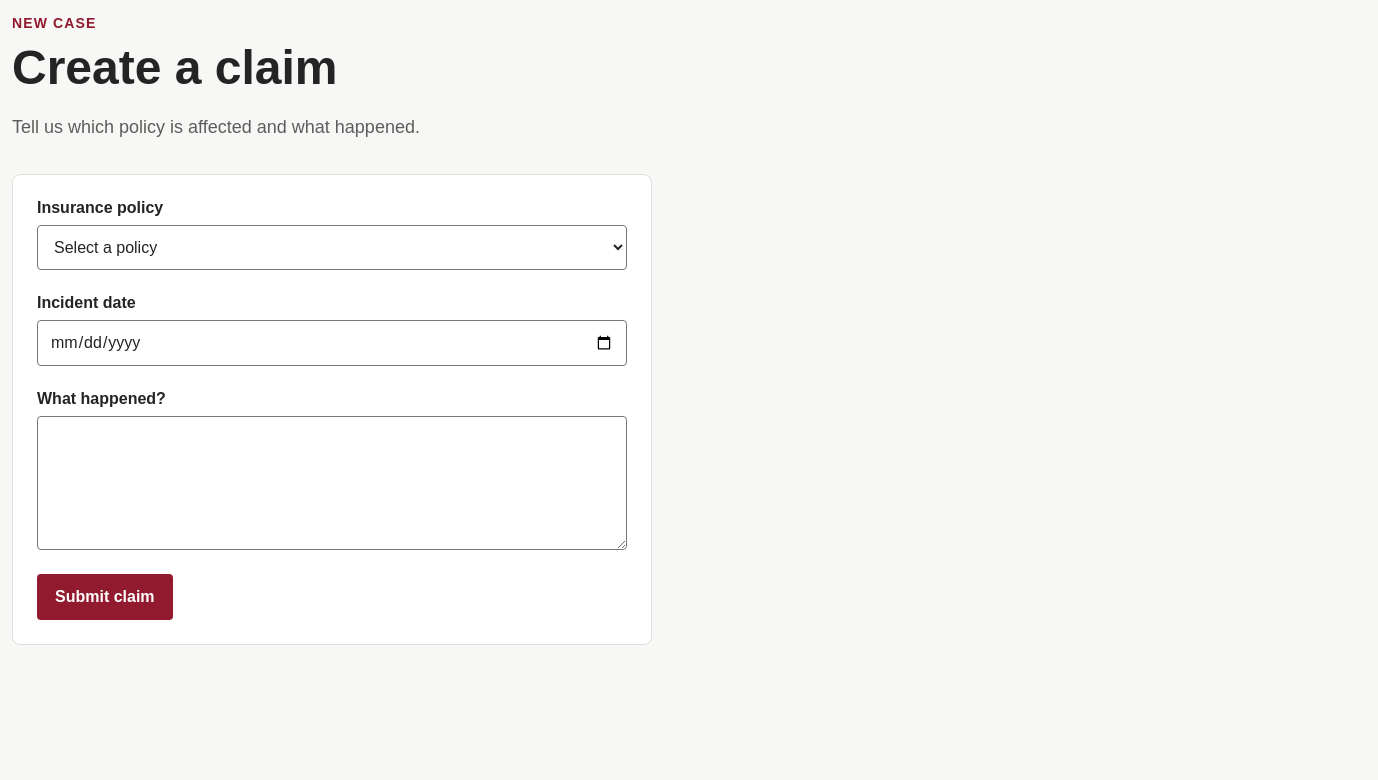
Test: CreateClaimPage › confirms a valid claim and resets the form
This screenshot has width=1378, height=780.
Select "Home insurance (HOME-48291)" in the dropdown labelled "Insurance policy" at (332, 248), box x1=37 y1=225 x2=627 y2=270
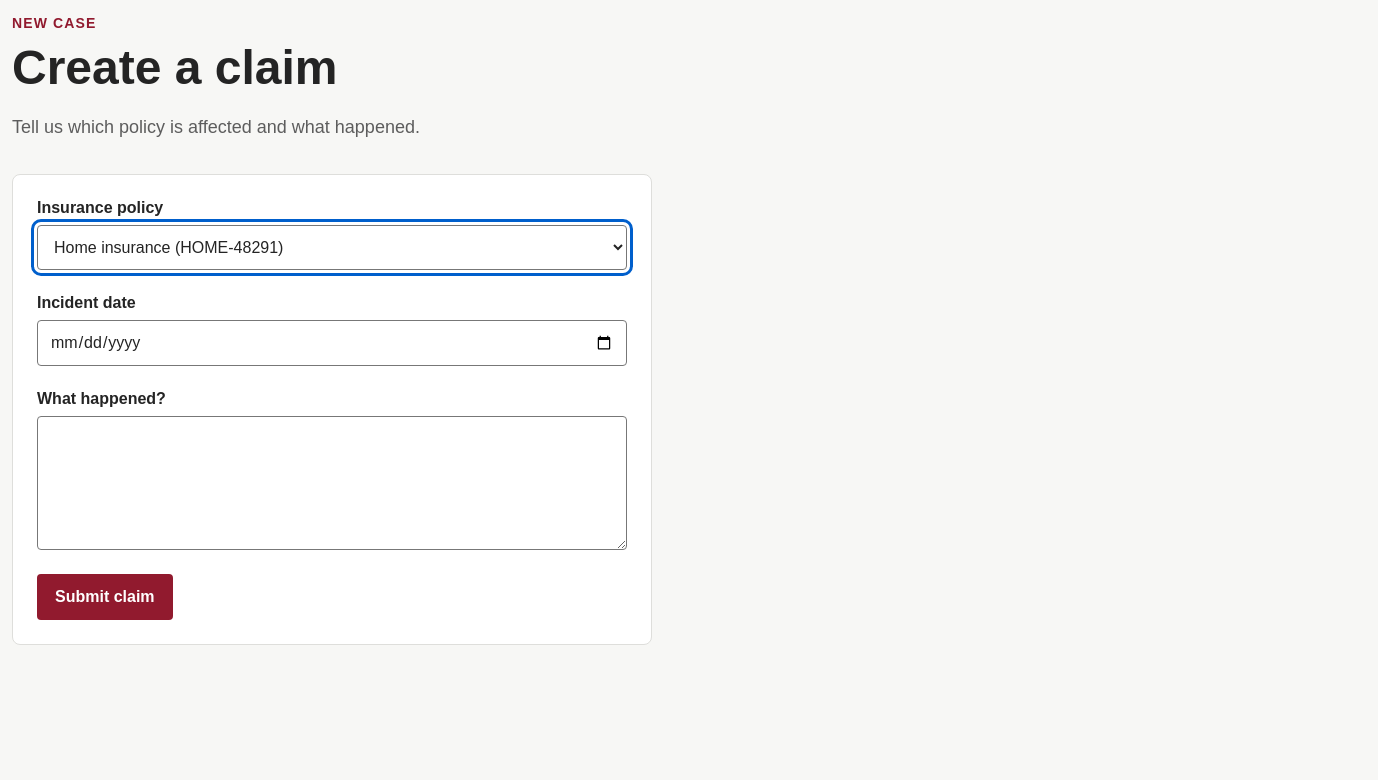
Type "2026-08-10" into the date field labelled "Incident date" at (332, 343), box x1=37 y1=320 x2=627 y2=366
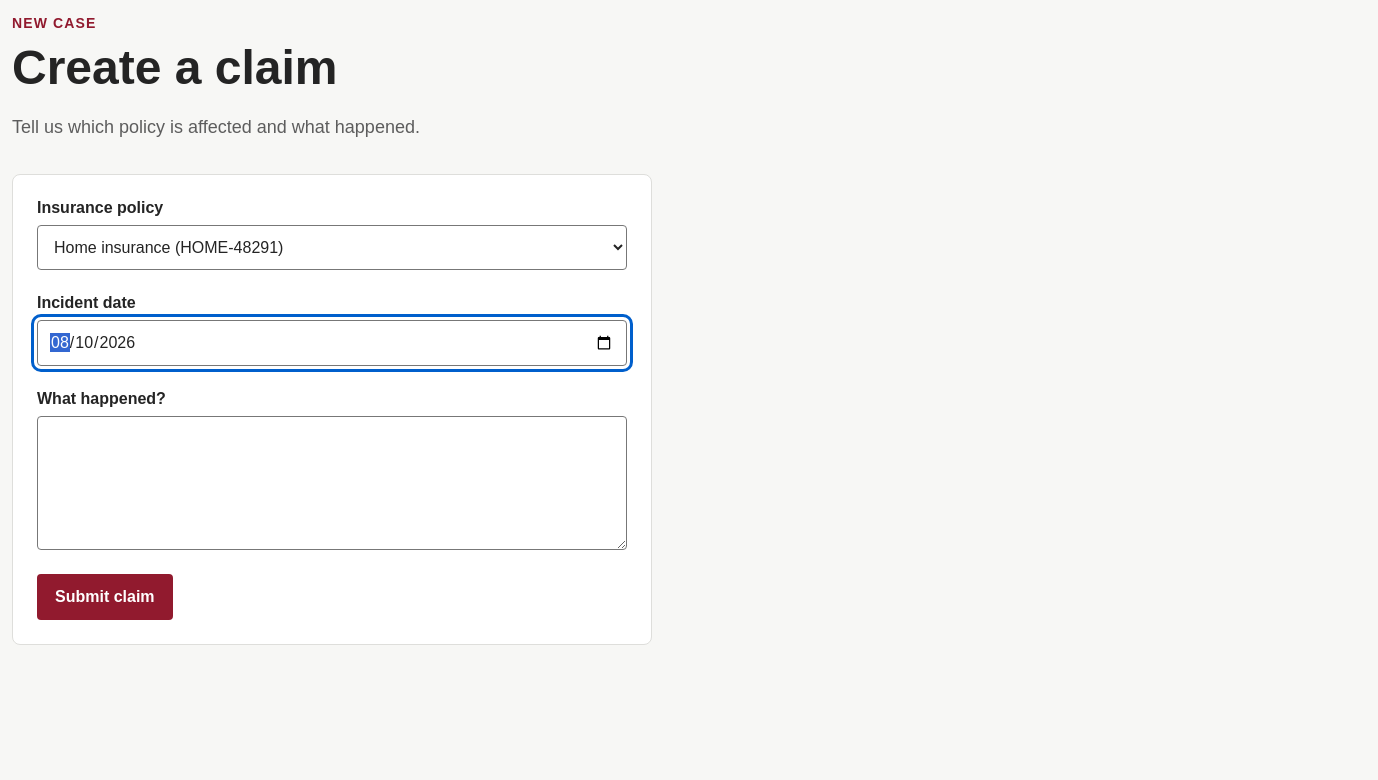
Type "Water damaged the kitchen floor and lower cabinets." into the text box labelled "What happened?" at (332, 483), box x1=37 y1=416 x2=627 y2=550
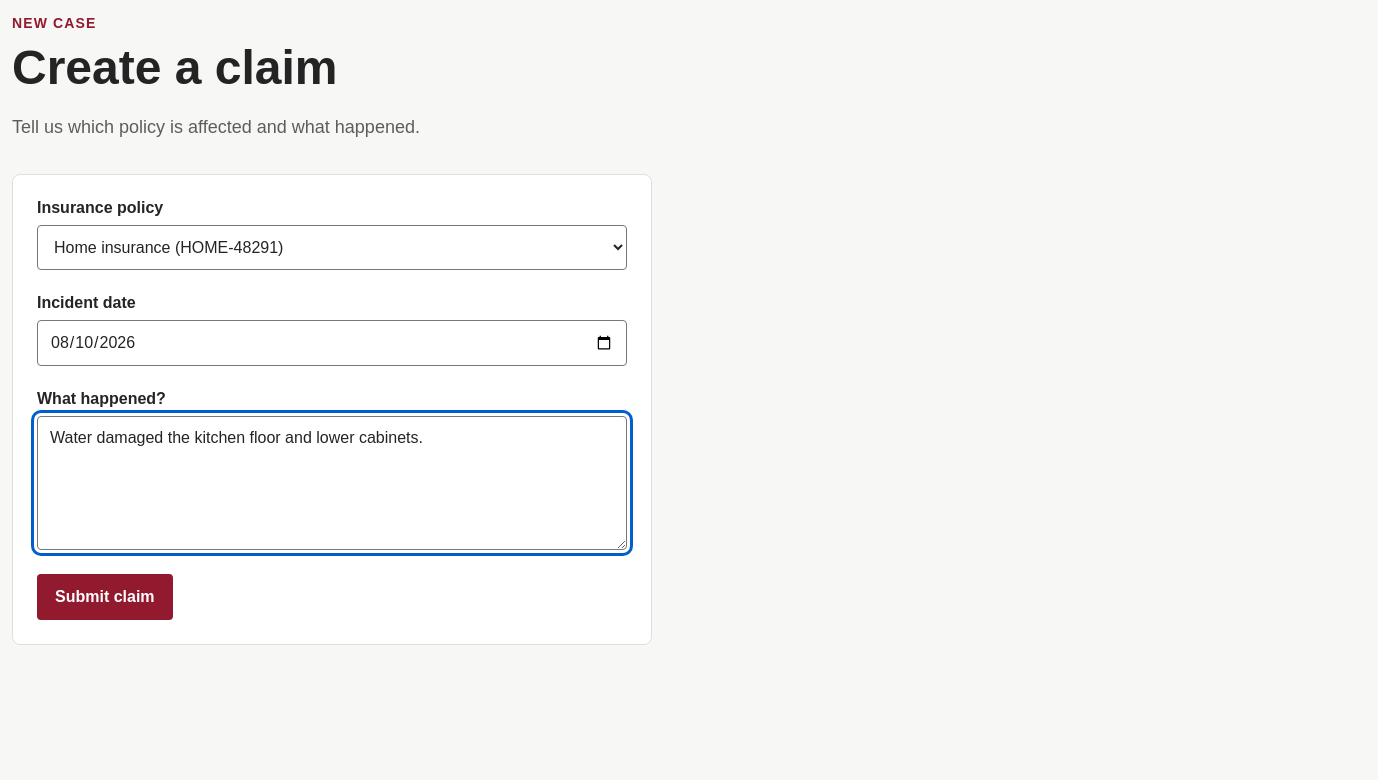
Click the button "Submit claim" at (105, 597), box x1=37 y1=574 x2=173 y2=620
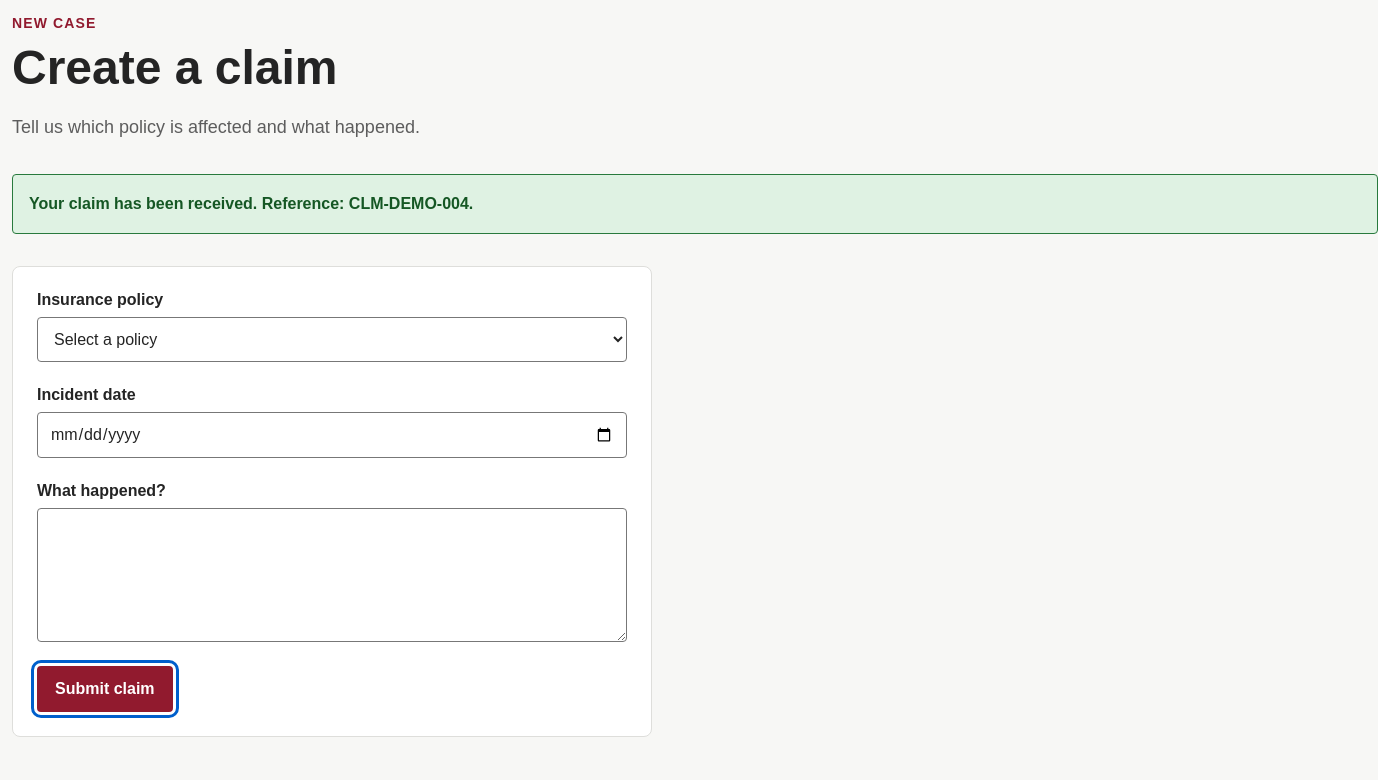
Now the message shows "Your claim has been received. Reference: CLM-DEMO-", box x1=12 y1=174 x2=1377 y2=234
Now the date field labelled "Incident date" is empty, box x1=37 y1=412 x2=627 y2=458
Now the text box labelled "What happened?" is empty, box x1=37 y1=508 x2=627 y2=642
